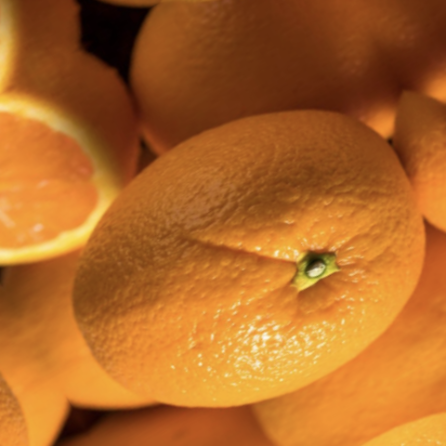orange: (0, 33, 446, 446)
